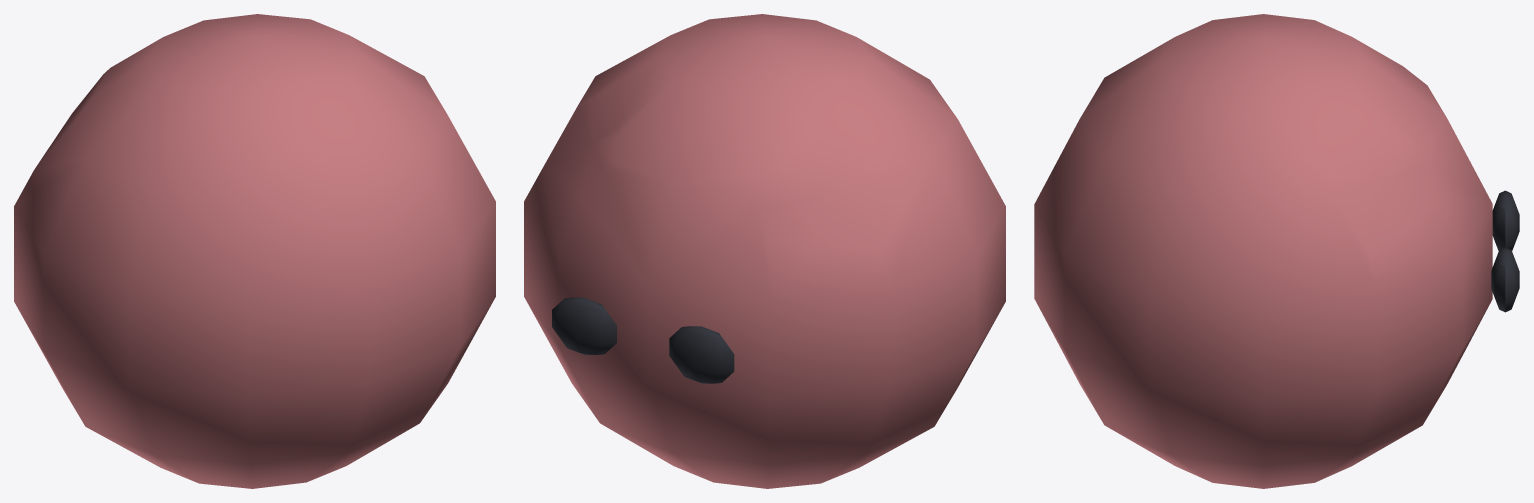
File: fingerspike_head.obj
3 views of the same model, side by side, from view 1: azimuth 30°, elevation 25°; view 2: azimuth 150°, elevation 25°; view 3: azimuth 270°, elevation 25° (orthographic).
Visible parts, largest first — view 1: source_component_000; view 2: source_component_000, source_component_001, source_component_002; view 3: source_component_000, source_component_002, source_component_001.
Part boxes in pixels (box(x1,y1,x2,y2)): source_component_000: box(14, 14, 495, 488); source_component_000: box(524, 14, 1005, 488); source_component_001: box(669, 326, 734, 383); source_component_002: box(552, 297, 616, 355); source_component_000: box(1034, 14, 1492, 488); source_component_002: box(1491, 247, 1519, 312); source_component_001: box(1492, 190, 1519, 250).
Size of the model in its own units: 0.3102 by 0.301 by 0.3106.
